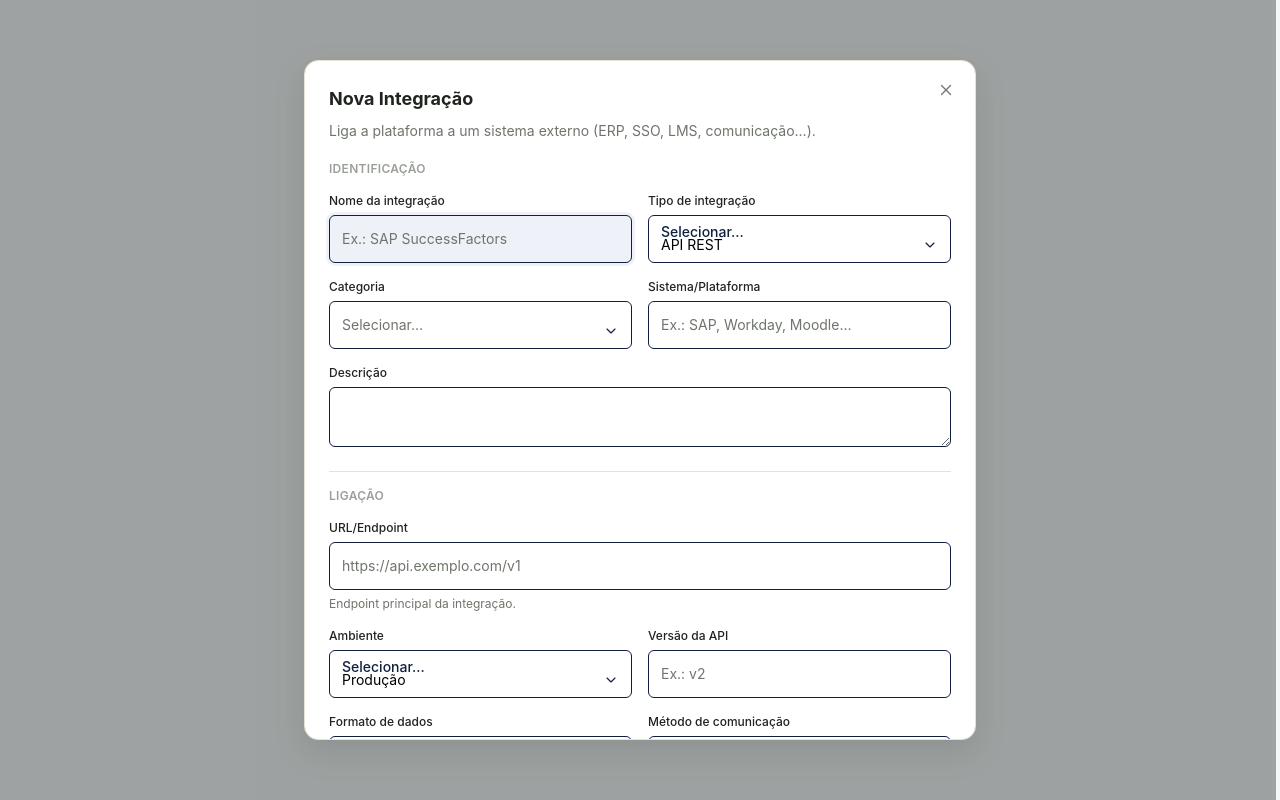
Scenario: NewIntegrationModal (api-integrations) › o botão de criar só fica activo com os campos obrigatórios
In the field labelled "Nome da integração": {"x": 480, "y": 239} [329,215,632,263], type "SAP"
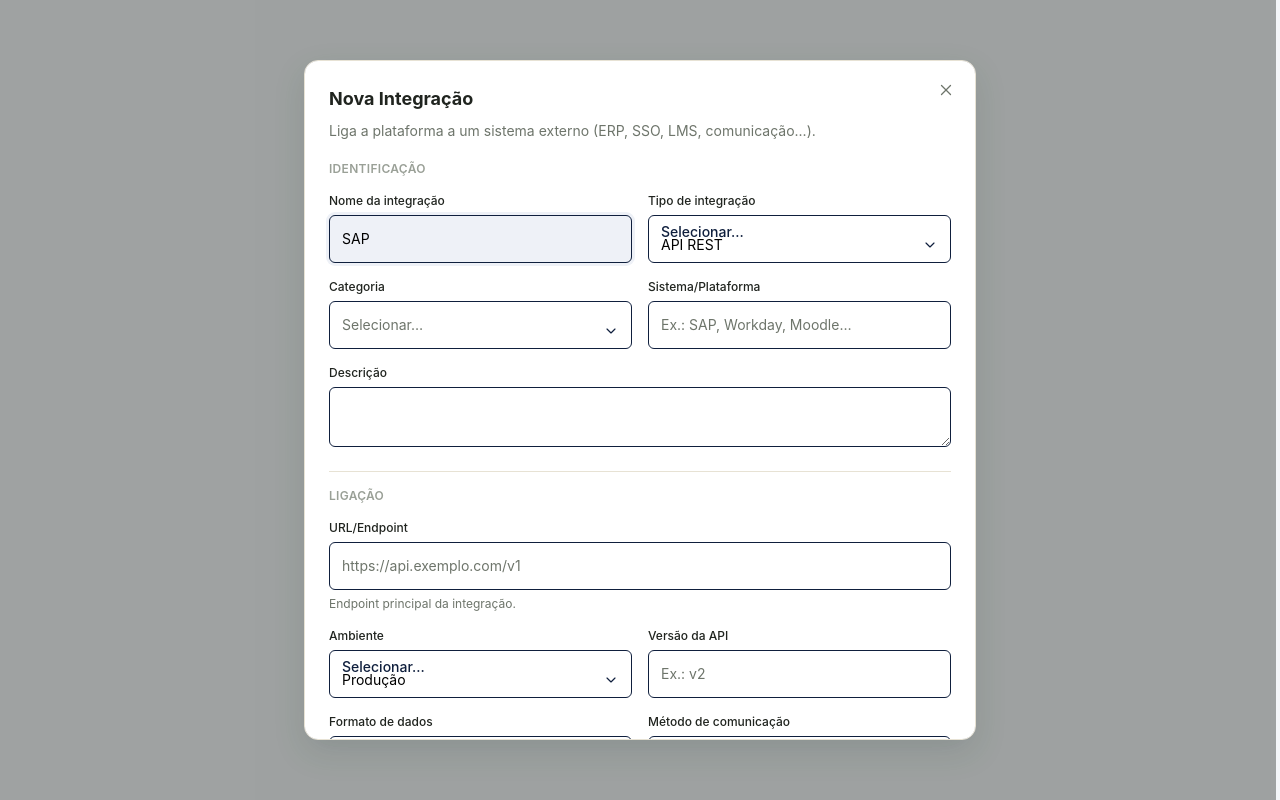
In the field labelled "URL/Endpoint": {"x": 640, "y": 566} [329,542,951,590], type "https://api.exemplo.com"
(page scrolled)
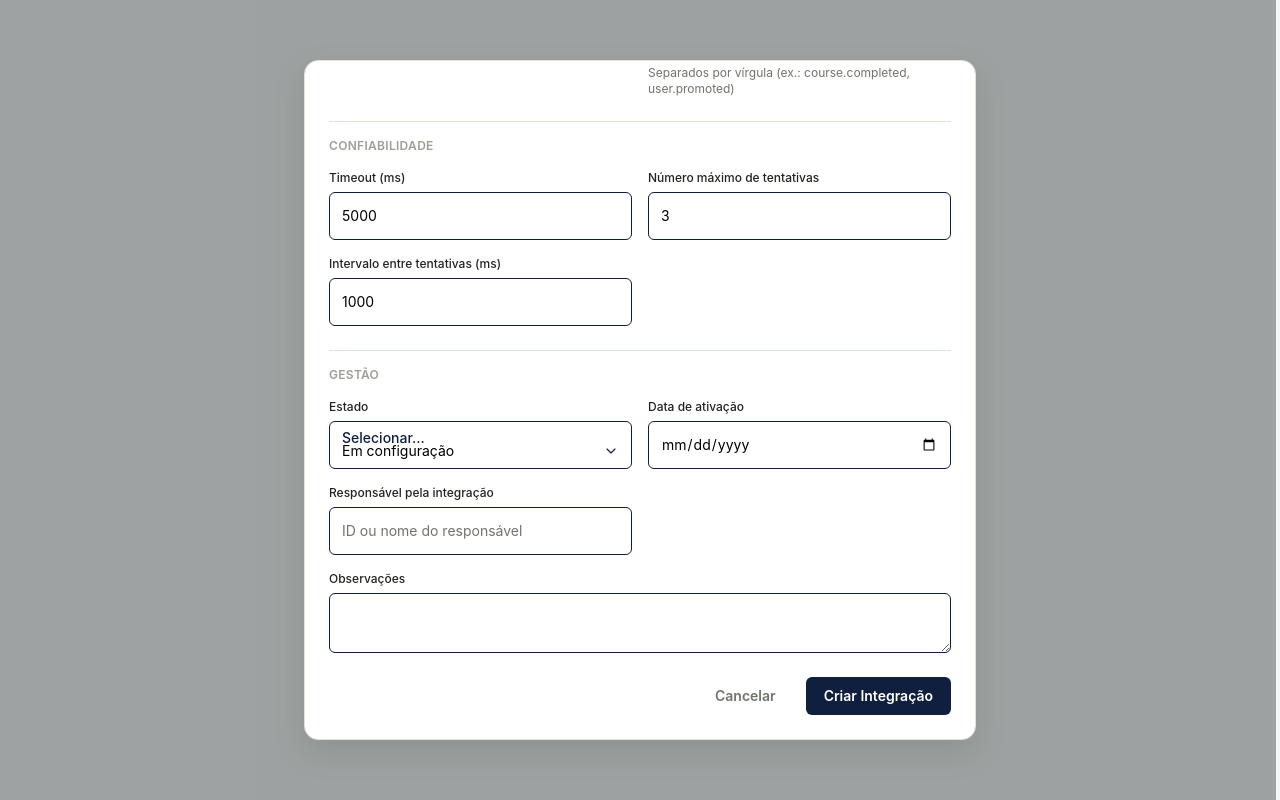
Expected: the button "Criar Integração" is enabled, [806,677,951,715]
